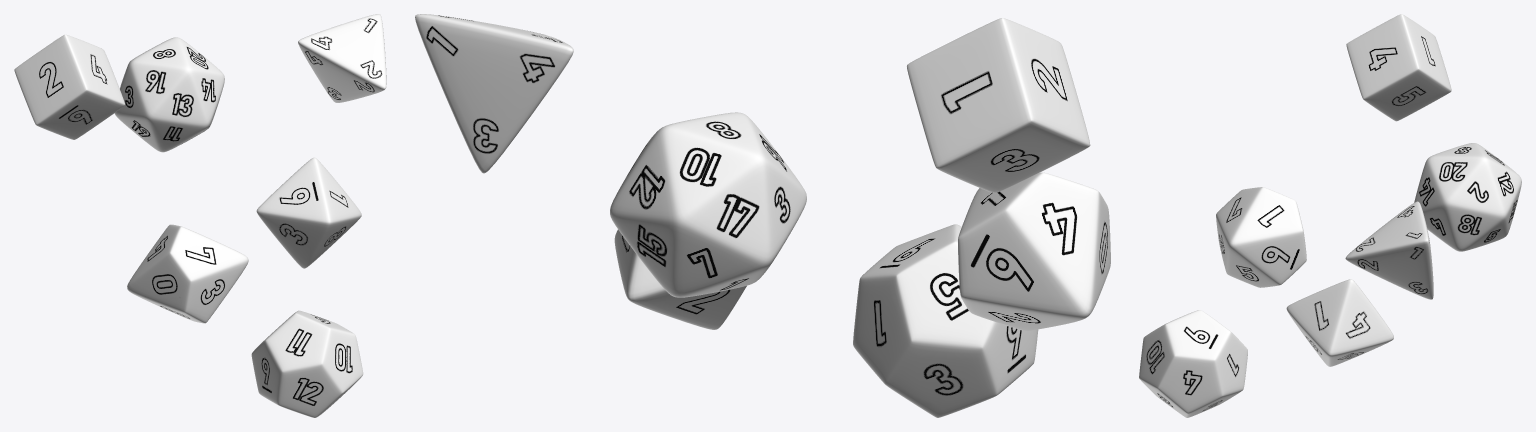
Rendered from dnd_dice.glb.
The picture shows the model from 3 angles, left to right: view 1: azimuth 30°, elevation 25°; view 2: azimuth 150°, elevation 25°; view 3: azimuth 270°, elevation 25°; orthographic projection. The views are drawn at different scales.
Visible parts, largest first — view 1: Solid_1, Solid.004_4, Solid.002_2, Cone_5, Solid.003_3, Solid.001_0; view 2: Solid_1, Solid.002_2, Solid.004_4, Cone_5, Solid.001_0, Solid.003_3; view 3: Solid_1, Solid.004_4, Solid.002_2, Cone_5, Solid.003_3, Solid.001_0.
Boxes of the visible parts, bbox=[...] form: Solid_1: bbox=[114, 37, 224, 152]; Solid.004_4: bbox=[251, 310, 363, 417]; Solid.002_2: bbox=[14, 34, 124, 139]; Cone_5: bbox=[127, 224, 248, 323]; Solid.003_3: bbox=[256, 157, 361, 268]; Solid.001_0: bbox=[298, 14, 386, 102]; Solid_1: bbox=[610, 112, 806, 297]; Solid.002_2: bbox=[907, 18, 1090, 192]; Solid.004_4: bbox=[853, 224, 1038, 417]; Cone_5: bbox=[958, 172, 1110, 330]; Solid.001_0: bbox=[415, 14, 573, 173]; Solid.003_3: bbox=[614, 229, 746, 329]; Solid_1: bbox=[1414, 143, 1521, 251]; Solid.004_4: bbox=[1139, 310, 1247, 417]; Solid.002_2: bbox=[1346, 14, 1451, 121]; Cone_5: bbox=[1216, 187, 1306, 287]; Solid.003_3: bbox=[1286, 279, 1393, 366]; Solid.001_0: bbox=[1345, 201, 1433, 299].
Bounding box in the file's own units: 6.87 × 6 × 6.24.
6 materials, 6 textured.
